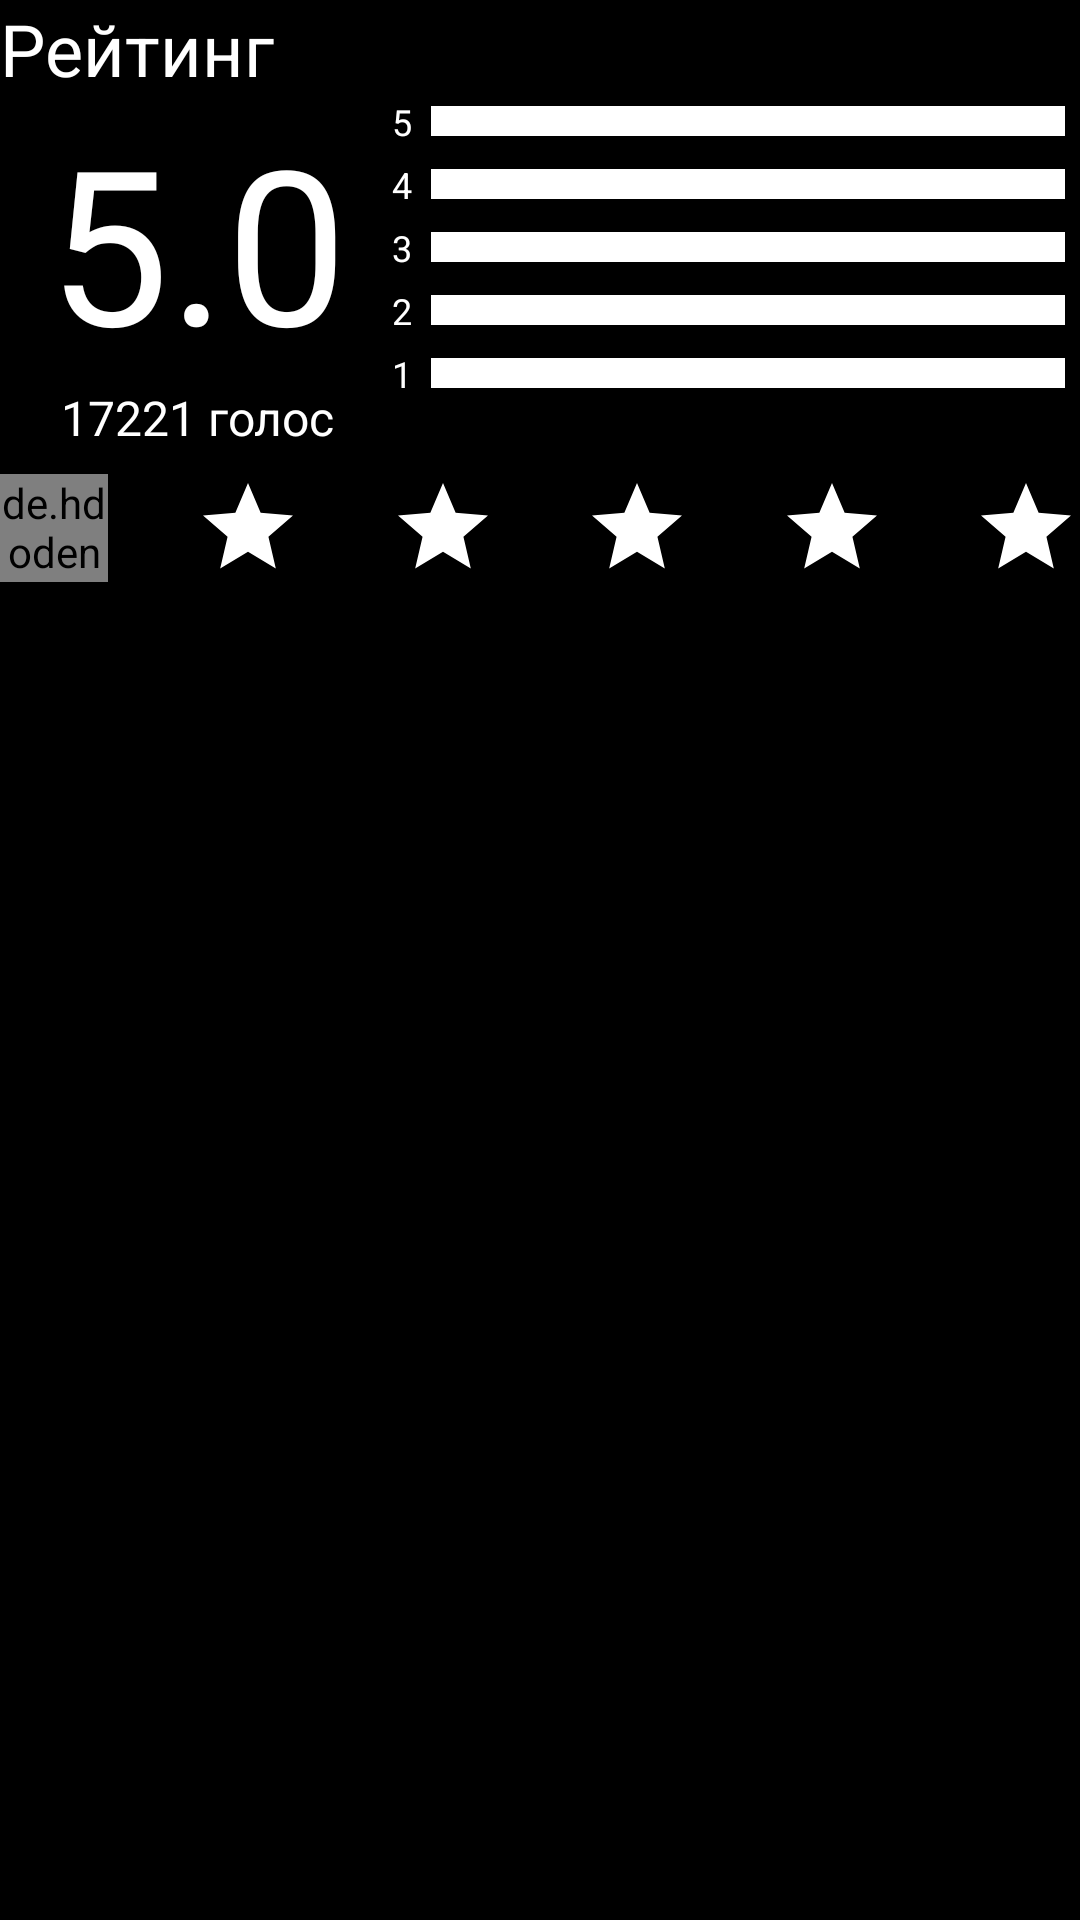

Screen size 1080x1920. Icon name, then its box in pixels as {"left": x1, "top": y1, "right": x2, "bottom": y2}:
star: {"left": 203, "top": 483, "right": 293, "bottom": 569}, {"left": 398, "top": 483, "right": 488, "bottom": 569}, {"left": 592, "top": 483, "right": 682, "bottom": 569}, {"left": 787, "top": 483, "right": 877, "bottom": 569}, {"left": 981, "top": 483, "right": 1071, "bottom": 569}
